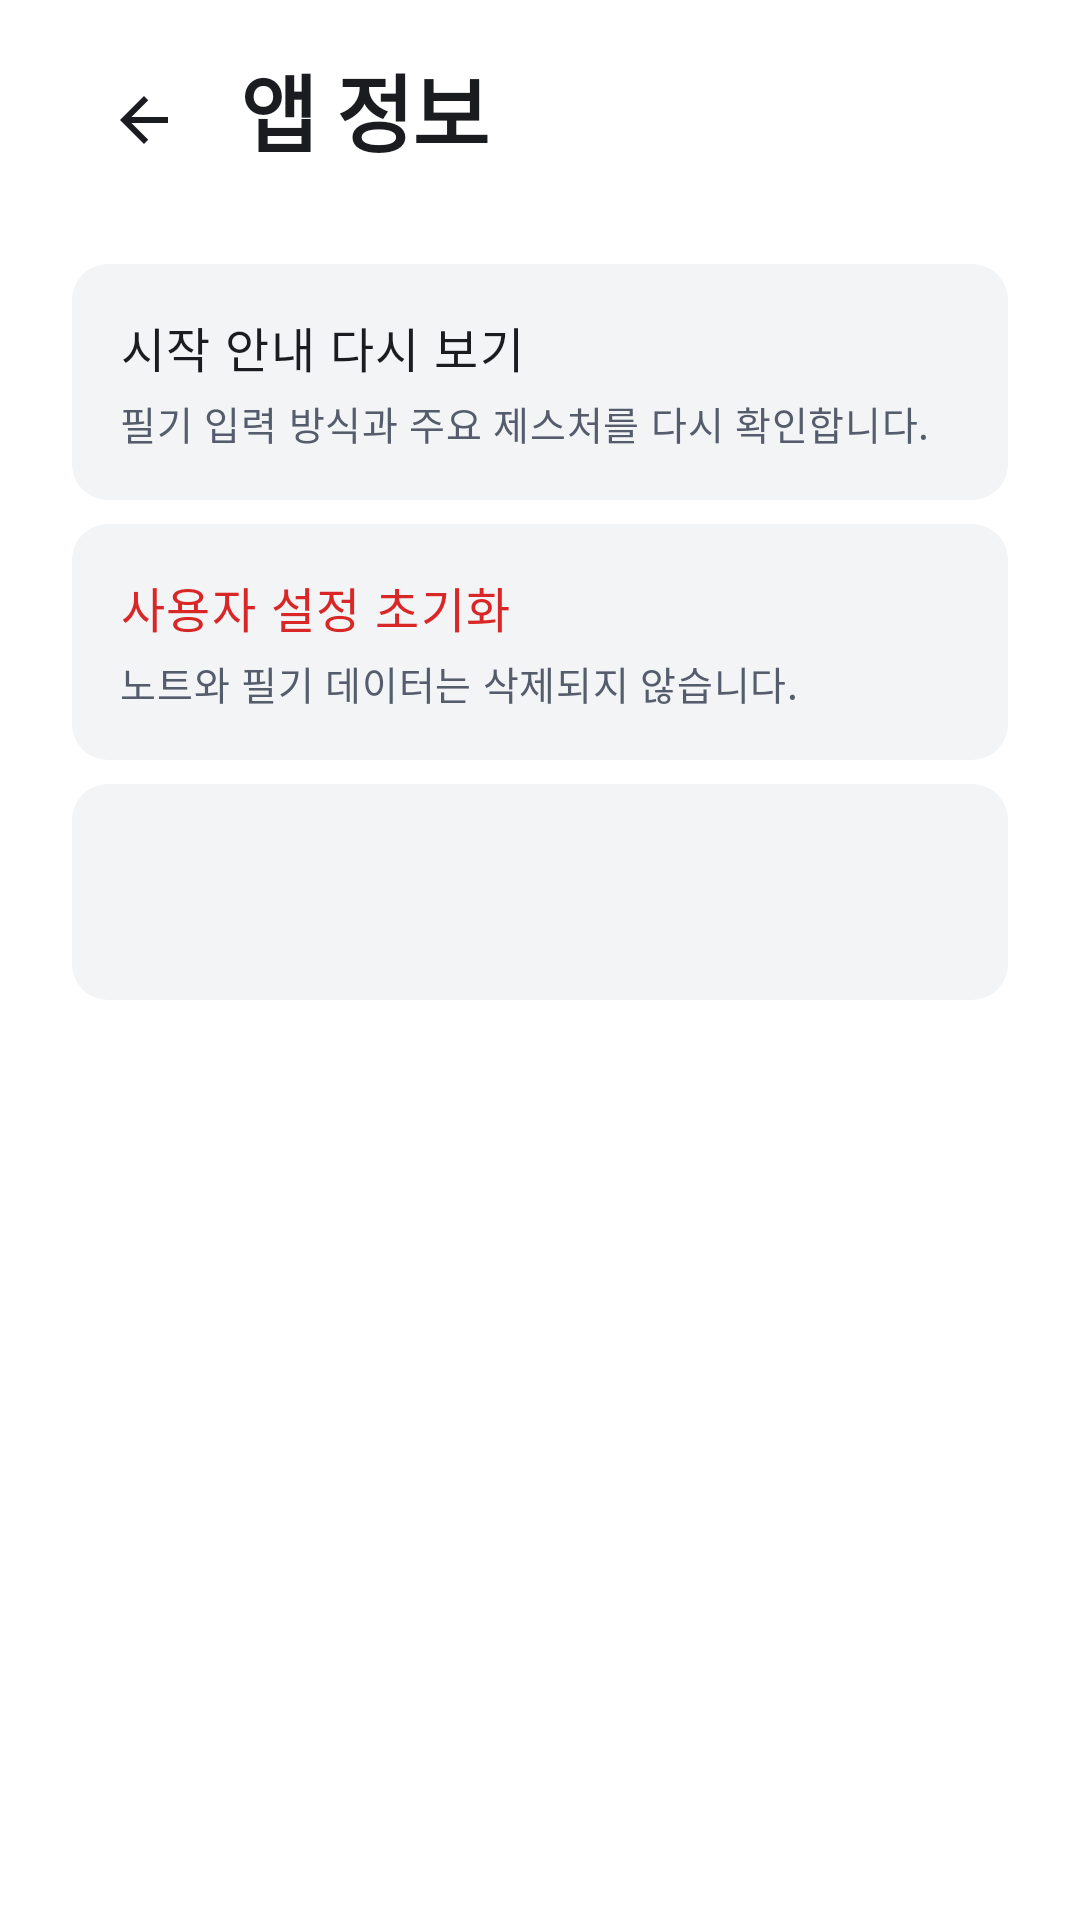

Named icons in this screenshot (1080*1920) and their centers, point (x, y):
뒤로: point (144, 120)
